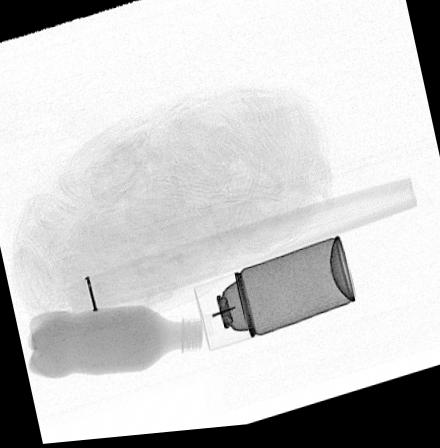Sprayer: (191, 240, 357, 357)
